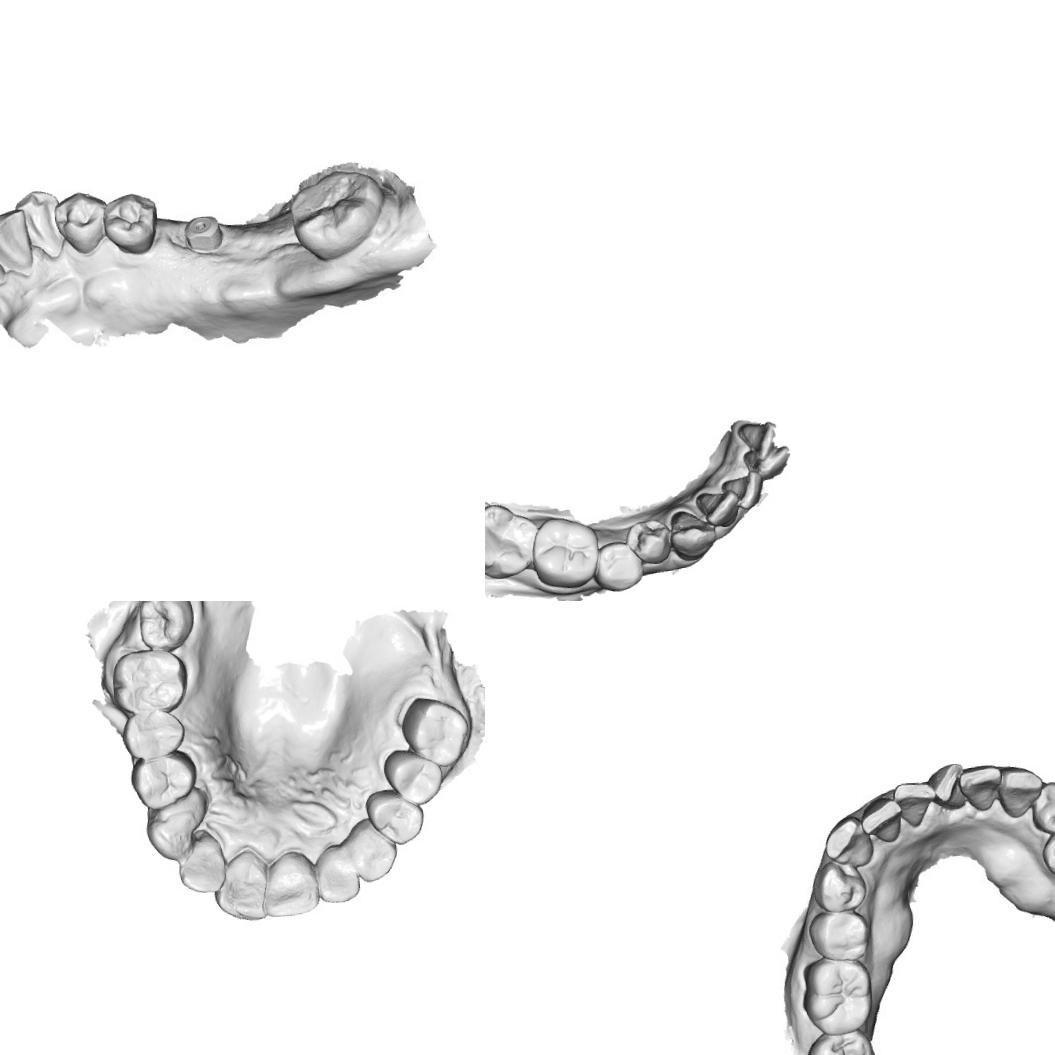canine: (15, 185, 65, 260), (143, 803, 201, 865), (347, 819, 399, 884), (664, 504, 720, 564), (818, 816, 876, 866), (994, 764, 1040, 820)
implant: (181, 209, 229, 258)
incisor: (212, 847, 268, 926), (259, 848, 320, 918), (311, 842, 362, 906), (177, 836, 227, 895), (0, 206, 37, 279), (719, 468, 766, 511), (958, 761, 1000, 809), (694, 487, 740, 529), (732, 419, 778, 461), (866, 796, 906, 844), (740, 445, 794, 478), (896, 781, 933, 823), (933, 764, 965, 802)
molar: (283, 164, 390, 265), (529, 510, 604, 591), (397, 692, 472, 771), (108, 645, 190, 717), (802, 954, 876, 1032), (485, 499, 543, 581), (135, 601, 197, 653), (806, 1030, 879, 1055)
premolar: (127, 748, 199, 812), (380, 745, 446, 807), (101, 189, 162, 256), (362, 786, 427, 848), (52, 188, 108, 259), (117, 708, 188, 758), (809, 860, 866, 914), (593, 539, 646, 593), (622, 516, 672, 567), (813, 914, 866, 962), (1037, 780, 1055, 831), (1044, 833, 1055, 877)
